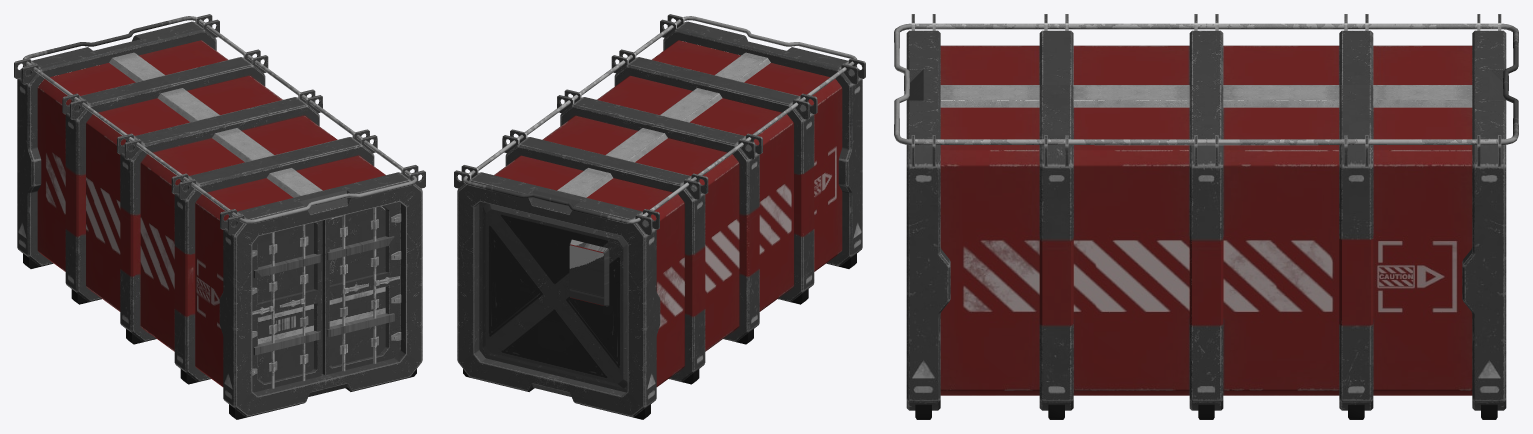
File: container_red.glb
3 views of the same model, side by side, from view 1: azimuth 30°, elevation 25°; view 2: azimuth 150°, elevation 25°; view 3: azimuth 270°, elevation 25° (orthographic). The views are drawn at different scales.
Parts seen in each view (by area): view 1: prop_container2.010, prop_container2door2.010, prop_container2door1.010; view 2: prop_container2.010; view 3: prop_container2.010.
Boxes of the visible parts, x1=… form: prop_container2.010: x1=14, y1=14, x2=425, y2=419; prop_container2door2.010: x1=322, y1=202, x2=401, y2=374; prop_container2door1.010: x1=252, y1=220, x2=322, y2=392; prop_container2.010: x1=454, y1=14, x2=865, y2=419; prop_container2.010: x1=894, y1=14, x2=1518, y2=419.
Size of the model in its own units: 3.13 by 3.11 by 6.25.
2 materials, 2 textured.
